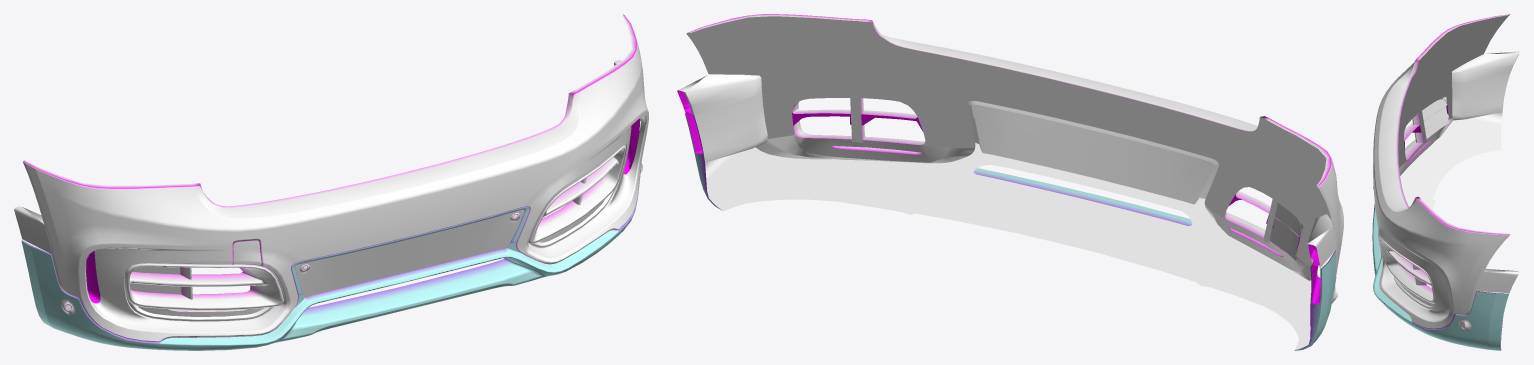
File: Car_Mini_CountrymanJCW_2017_BumperF_SetA.fbx
3 renders of one model, left to right at view 1: azimuth 30°, elevation 25°; view 2: azimuth 150°, elevation 25°; view 3: azimuth 270°, elevation 25°, orthographic. The views are drawn at different scales.
Parts seen in each view (by area): view 1: BumperF 6; view 2: BumperF 6; view 3: BumperF 6.
Part boxes in pixels (x1,y1,x2,y2): BumperF 6: (14, 14, 648, 350); BumperF 6: (677, 14, 1343, 350); BumperF 6: (1372, 14, 1519, 350).
Bounding box in the file's own units: 1.76 × 0.4741 × 0.4913.
